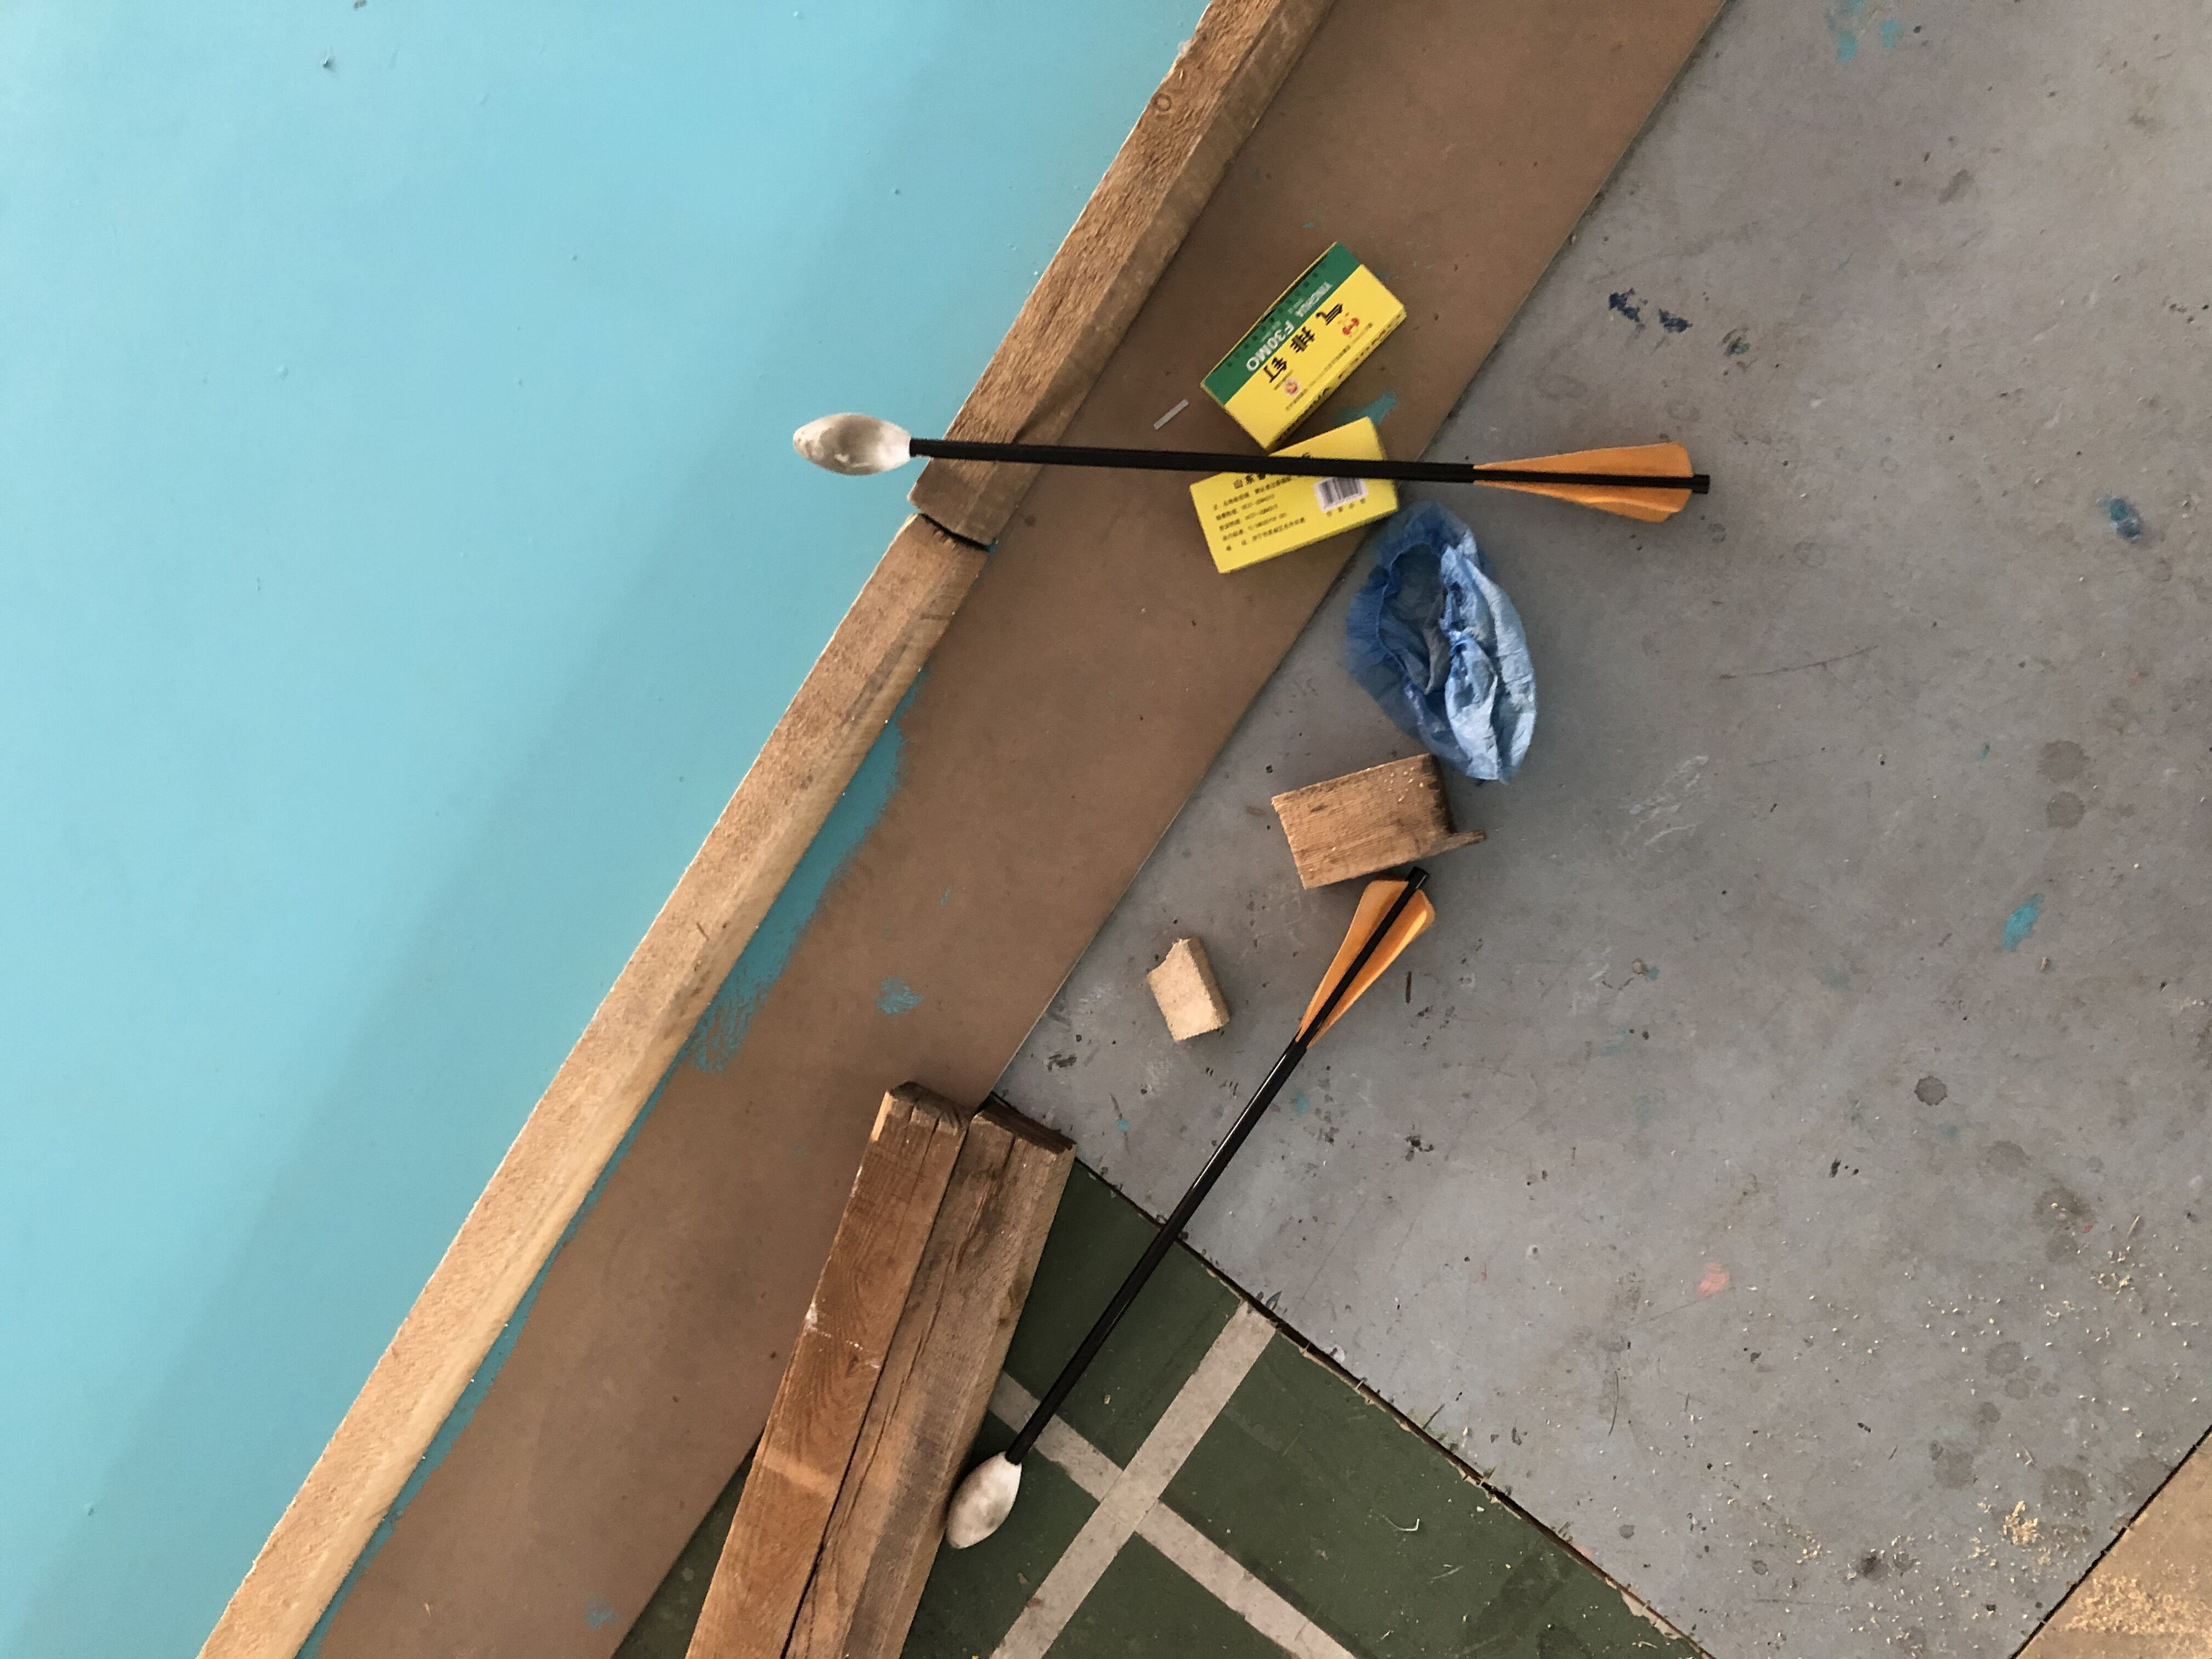arrow: (942, 875, 1440, 1554), (792, 413, 1710, 523)
arrowFront: (942, 1450, 1028, 1551), (789, 411, 911, 479)
